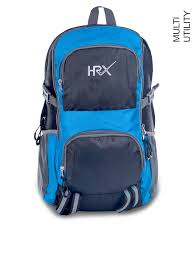backpack: (33, 5, 159, 215)
